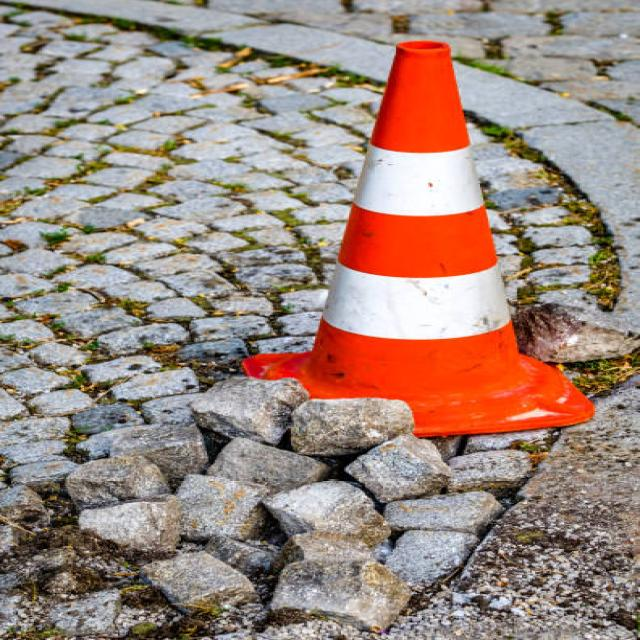Traffic Cone: (194, 16, 628, 465)
